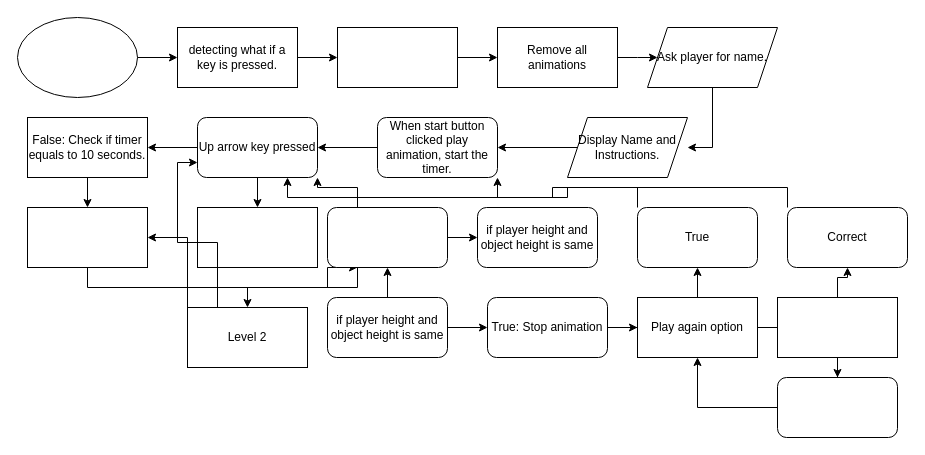
This 925x455 diagram has some shape labels left out. The shapes that lost their labels are listed below. From the top down, each one's box as (x1, y1, x2, y2) in pixels, then its label:
(16, 16, 138, 98): Start
(336, 26, 458, 88): Store HTML and CSS value in a variable.
(26, 206, 148, 268): spacebar clicked
(196, 206, 318, 268): True: play jump animation.
(326, 206, 448, 268): False: if timer is 10 seconds
(776, 296, 898, 358): Chance
(776, 376, 898, 438): Incorrect
